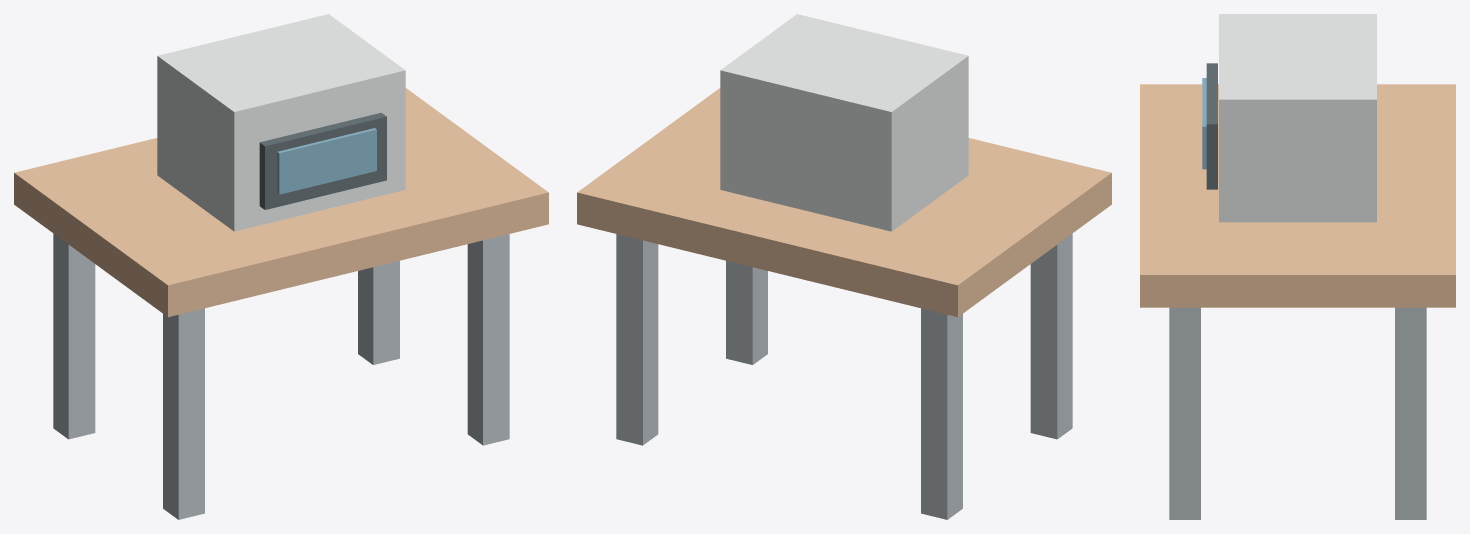
Rendered from oscilloscope_station.glb.
3 views of the same model, side by side, from view 1: azimuth 30°, elevation 25°; view 2: azimuth 150°, elevation 25°; view 3: azimuth 270°, elevation 25° (orthographic). The views are drawn at different scales.
Bounding box in the file's own units: 1 × 0.93 × 0.7.
